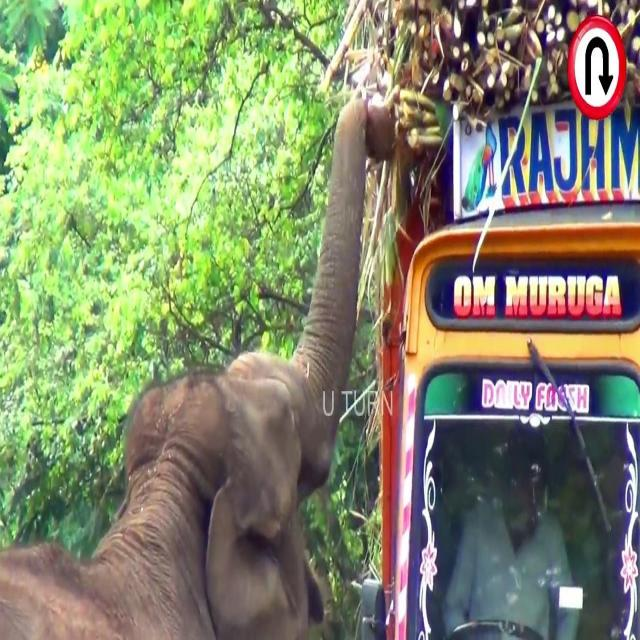Elephant: (2, 95, 393, 632)
